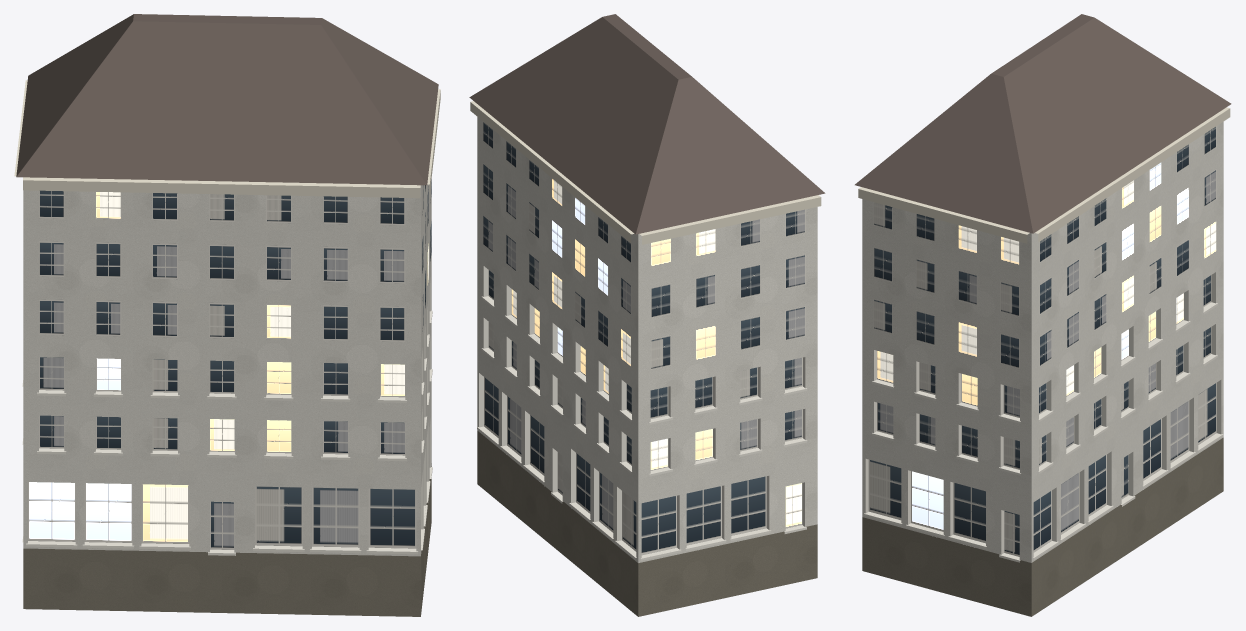
The model's file is z3c_hp_whitehip.glb.
3 renders of one model, left to right at view 1: azimuth 30°, elevation 25°; view 2: azimuth 150°, elevation 25°; view 3: azimuth 270°, elevation 25°, orthographic. The views are drawn at different scales.
Visible parts, largest first — view 1: z3c_hp_whitehip; view 2: z3c_hp_whitehip; view 3: z3c_hp_whitehip.
Boxes of the visible parts, <box> form: z3c_hp_whitehip: <box>14,14,440,616</box>; z3c_hp_whitehip: <box>469,14,825,616</box>; z3c_hp_whitehip: <box>855,14,1231,616</box>.
Size of the model in its own units: 21.35 by 27.02 by 19.04.
3 materials, 3 textured.
